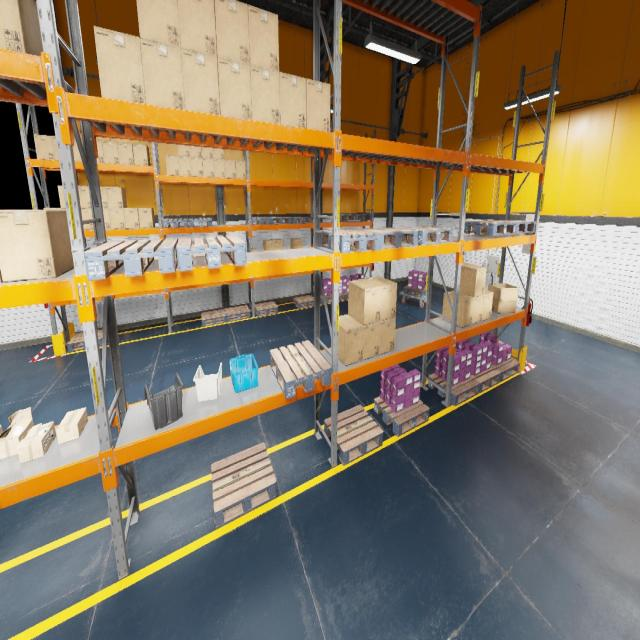box: (0, 210, 74, 282), (94, 26, 146, 104), (140, 39, 185, 110), (181, 48, 220, 115), (0, 0, 43, 56), (214, 0, 250, 65), (177, 0, 217, 57), (217, 57, 252, 120), (248, 4, 279, 72), (136, 0, 180, 47), (250, 65, 280, 124), (0, 407, 34, 459), (331, 314, 364, 366), (17, 422, 56, 464), (348, 278, 381, 324), (280, 72, 306, 128), (365, 276, 397, 321), (306, 78, 330, 132), (56, 407, 88, 444), (442, 290, 474, 327), (459, 262, 487, 296), (488, 283, 518, 313), (459, 292, 484, 324), (0, 210, 10, 282), (363, 321, 380, 360), (379, 318, 396, 354), (33, 134, 55, 160), (106, 187, 127, 207), (132, 144, 150, 166), (102, 140, 119, 163), (117, 142, 134, 164), (138, 208, 155, 228), (123, 208, 140, 228), (109, 208, 125, 229), (482, 290, 493, 320), (78, 186, 91, 208), (166, 155, 180, 175), (72, 138, 84, 161), (81, 209, 94, 230), (190, 157, 203, 177), (178, 156, 191, 176), (224, 159, 236, 178), (202, 158, 214, 177), (213, 159, 225, 177), (235, 160, 246, 178), (96, 140, 104, 162), (100, 187, 108, 208), (58, 185, 65, 208), (103, 208, 111, 228), (177, 144, 190, 156), (263, 239, 275, 251), (52, 136, 58, 160), (189, 146, 202, 157), (201, 147, 213, 158), (213, 148, 224, 159), (272, 239, 284, 249), (291, 238, 302, 248), (0, 424, 2, 434)
pallets: (211, 442, 276, 529), (83, 238, 178, 280), (270, 340, 331, 399), (324, 405, 383, 465), (176, 235, 247, 271), (374, 397, 429, 436), (428, 373, 479, 406), (320, 229, 381, 253), (356, 228, 418, 248), (399, 226, 453, 245), (66, 329, 108, 352), (470, 367, 501, 393), (464, 221, 516, 235), (490, 358, 520, 382), (485, 220, 536, 233), (201, 308, 227, 326), (225, 305, 250, 322), (255, 301, 278, 316), (293, 294, 314, 308), (404, 285, 426, 298), (162, 218, 188, 228), (189, 218, 212, 227), (268, 217, 292, 224), (292, 216, 313, 224), (251, 217, 271, 224), (332, 214, 355, 220), (348, 214, 370, 220), (320, 295, 332, 304), (339, 292, 348, 301)
